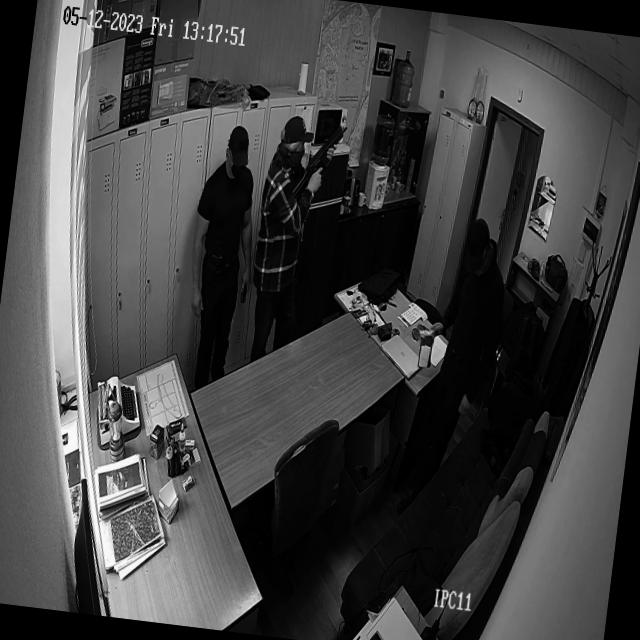gun: (291, 119, 348, 204)
person: (393, 211, 518, 530), (175, 122, 272, 396)
person with a gun: (240, 112, 348, 380)
